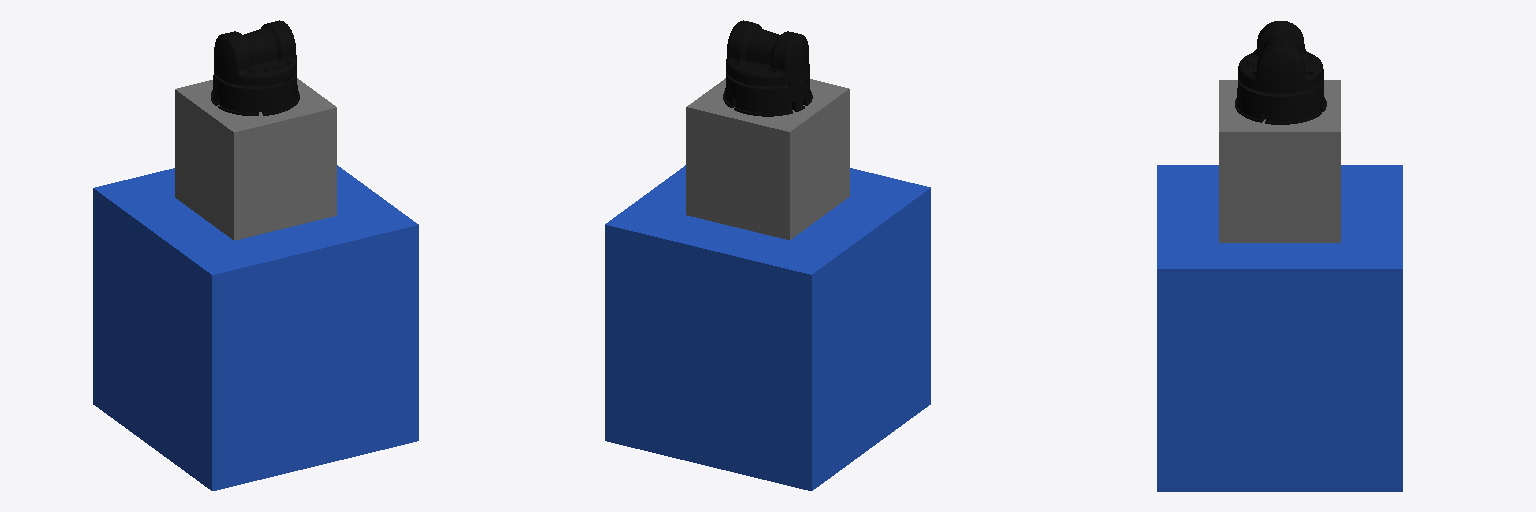
URDF robot description (l2_top_mount_example):
<?xml version="1.0"?>
<!--
  Minimal example URDF: Unitree L2 mounted on top of a trivial "robot".
  Use with l2_top_mount_example.launch.py.

  Robot geometry:
    base_link: 200 mm cube, sitting on the ground (bottom at z=0, top at z=0.20)
    top_block: 100 mm cube, sitting on top of the base (bottom at z=0.20, top at z=0.30)

  L2 mount:
    l2lidar_link: device origin sits flat on the top face of top_block (z=0.30).
    The L2 mesh extends from z=0.30 to z≈0.364 (the device is ~64 mm tall).

  Frame conventions (per Unitree spec):
    L2 +Z = out of the bottom mounting surface (the scan / cloud direction).
    L2 +X = opposite the cable exit.
    L2 +Y = right-hand rule from +X, +Z.

  In the top-mount variant the L2's +Z (cloud) points world +Z (up). Useful
  when you want overhead / ceiling-facing coverage, or as a benchtop test rig.
-->
<robot name="l2_top_mount_example">

  <!-- 200mm base cube, sitting on the ground -->
  <link name="base_link">
    <visual>
      <origin xyz="0 0 0.1" rpy="0 0 0"/>
      <geometry>
        <box size="0.2 0.2 0.2"/>
      </geometry>
      <material name="base_blue">
        <color rgba="0.20 0.40 0.80 1.0"/>
      </material>
    </visual>
    <collision>
      <origin xyz="0 0 0.1" rpy="0 0 0"/>
      <geometry>
        <box size="0.2 0.2 0.2"/>
      </geometry>
    </collision>
  </link>

  <!-- 100mm top cube, sitting flush on the base cube -->
  <link name="top_block">
    <visual>
      <origin xyz="0 0 0.05" rpy="0 0 0"/>
      <geometry>
        <box size="0.1 0.1 0.1"/>
      </geometry>
      <material name="top_gray">
        <color rgba="0.50 0.50 0.50 1.0"/>
      </material>
    </visual>
    <collision>
      <origin xyz="0 0 0.05" rpy="0 0 0"/>
      <geometry>
        <box size="0.1 0.1 0.1"/>
      </geometry>
    </collision>
  </link>

  <joint name="base_to_top" type="fixed">
    <parent link="base_link"/>
    <child  link="top_block"/>
    <!-- top of the 200mm base cube -->
    <origin xyz="0 0 0.2" rpy="0 0 0"/>
  </joint>

  <!-- L2 device link. The driver publishes cloud header.frame_id and the
       cloud→imu static TF anchored here. Mesh origin matches the cloud
       frame: bottom of mesh sits at this link's origin, mesh extends in
       +Z (away from the robot in the top-mount variant). -->
  <link name="l2lidar_link">
    <visual>
      <origin xyz="0 0 0" rpy="0 0 0"/>
      <geometry>
        <mesh filename="package://l2lidar_node/meshes/l2_lidar.stl"/>
      </geometry>
      <material name="l2_dark">
        <color rgba="0.10 0.10 0.10 1.0"/>
      </material>
    </visual>
  </link>

  <!-- L2 mounted on the top face of top_block. No rotation: L2 +Z (cloud
       out of mount) points world +Z. -->
  <joint name="top_to_l2" type="fixed">
    <parent link="top_block"/>
    <child  link="l2lidar_link"/>
    <!-- center of the top face of the 100mm top cube -->
    <origin xyz="0 0 0.1" rpy="0 0 0"/>
  </joint>

</robot>

--- Render facts (derived) ---
The picture shows the robot from 3 angles, left to right: view 1: azimuth 30°, elevation 25°; view 2: azimuth 150°, elevation 25°; view 3: azimuth 270°, elevation 25°; orthographic projection.
Robot: l2_top_mount_example — 3 links, 2 joints (2 fixed); root link base_link; default pose: all joints at 0.
Visible links, largest first — view 1: base_link, top_block, l2lidar_link; view 2: base_link, top_block, l2lidar_link; view 3: base_link, top_block, l2lidar_link.
Boxes of the visible links, x1,y1,x2,y2 form: base_link: (93,165,418,490); top_block: (175,78,336,240); l2lidar_link: (211,20,299,115); base_link: (605,165,930,490); top_block: (686,78,849,239); l2lidar_link: (723,20,812,116); base_link: (1157,165,1402,491); top_block: (1219,80,1340,242); l2lidar_link: (1235,21,1326,124).
Bounding box of the posed robot: 0.2 × 0.2 × 0.3639 m (x, y, z).
1 mesh visuals loaded from 1 distinct referenced files (1 binary STL).
